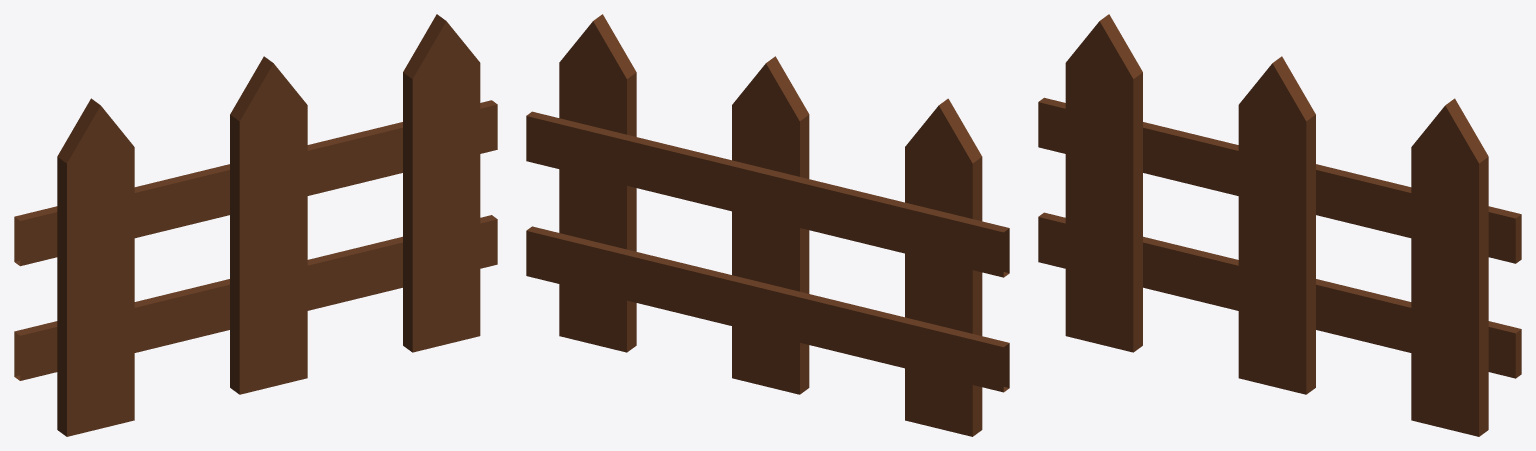
The model's file is Fence Tile_12.fbx.
3 views of the same model, side by side, from view 1: azimuth 30°, elevation 25°; view 2: azimuth 150°, elevation 25°; view 3: azimuth 330°, elevation 25° (orthographic).
Parts seen in each view (by area): view 1: Fence Tile_12; view 2: Fence Tile_12; view 3: Fence Tile_12.
Boxes of the visible parts, <box> form: Fence Tile_12: <box>14,14,497,436</box>; Fence Tile_12: <box>526,14,1009,436</box>; Fence Tile_12: <box>1038,14,1521,436</box>.
Bounding box in the file's own units: 189 × 122 × 10.68.
